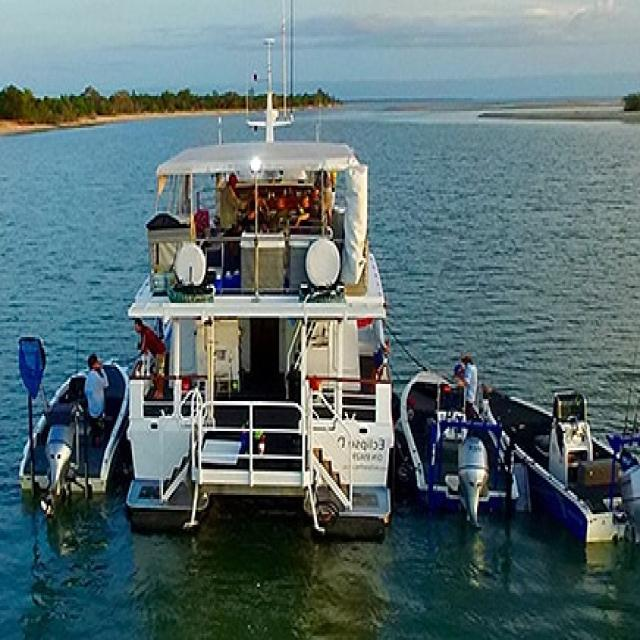passenger ship: (97, 80, 394, 573)
